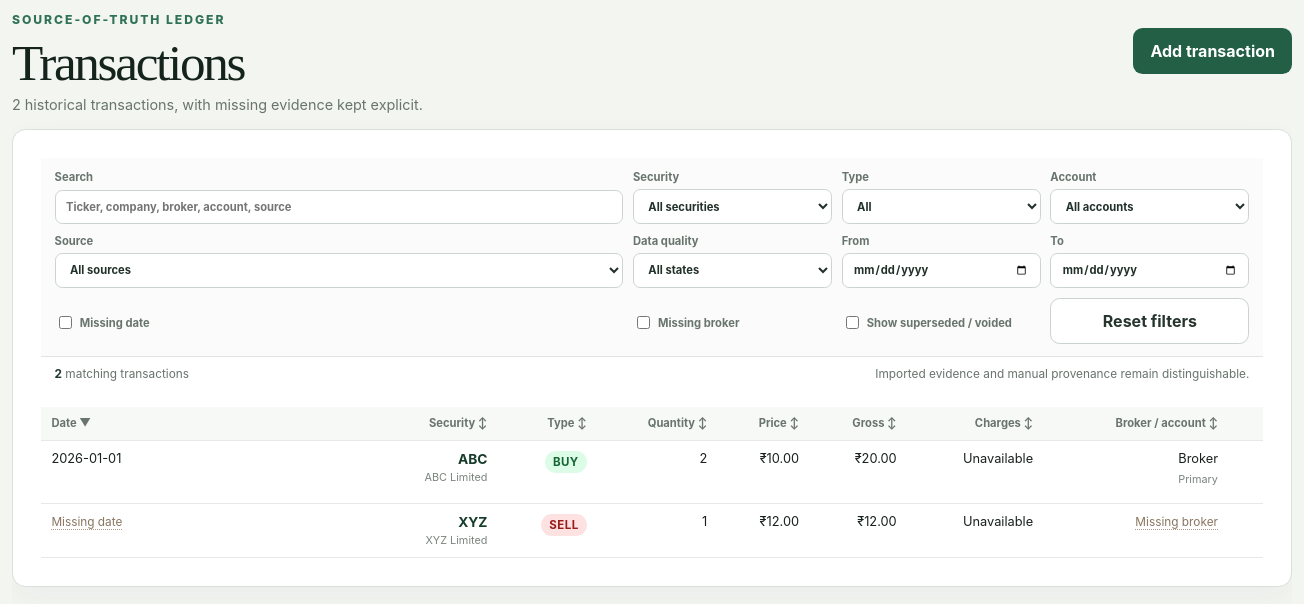
Test: TransactionsPage › sorts columns and resets combined filters
Expected: the text "ABC Limited" is shown, [424,470,488,484]
Click the button "Security ↕" at point(458, 423), box [429,416,488,430]
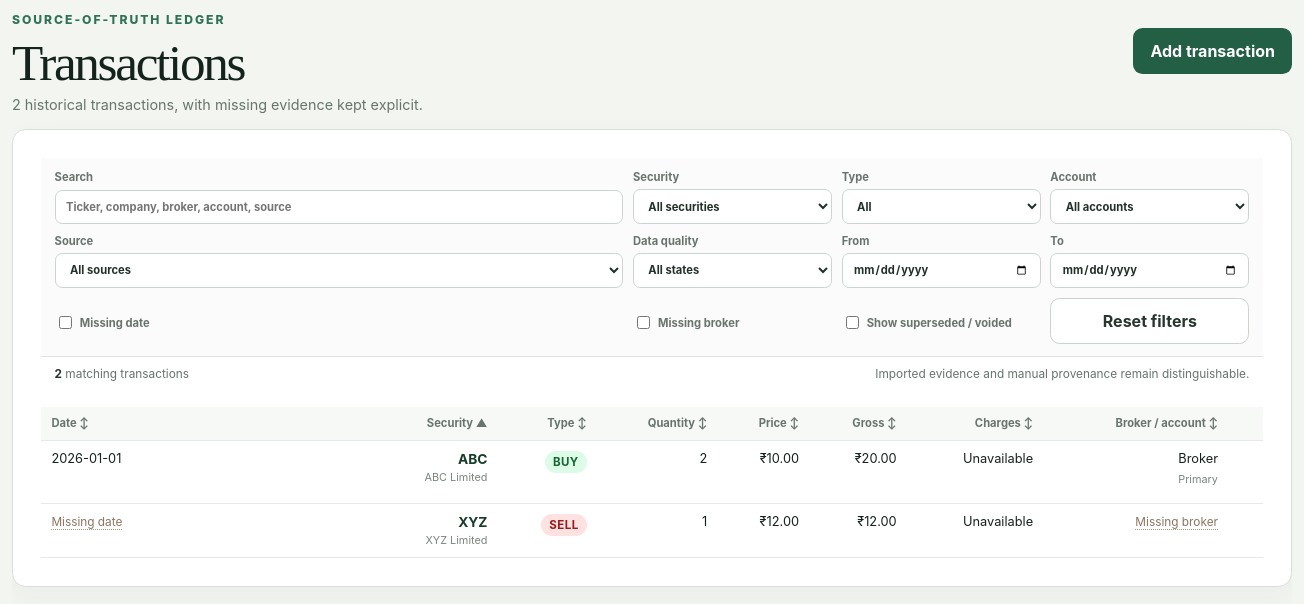
Expected: the row that starts with "ABC" is shown, [458,451,487,467]
Select "SELL" in the dropdown labelled "Type" at point(941, 207), box [842,189,1041,224]
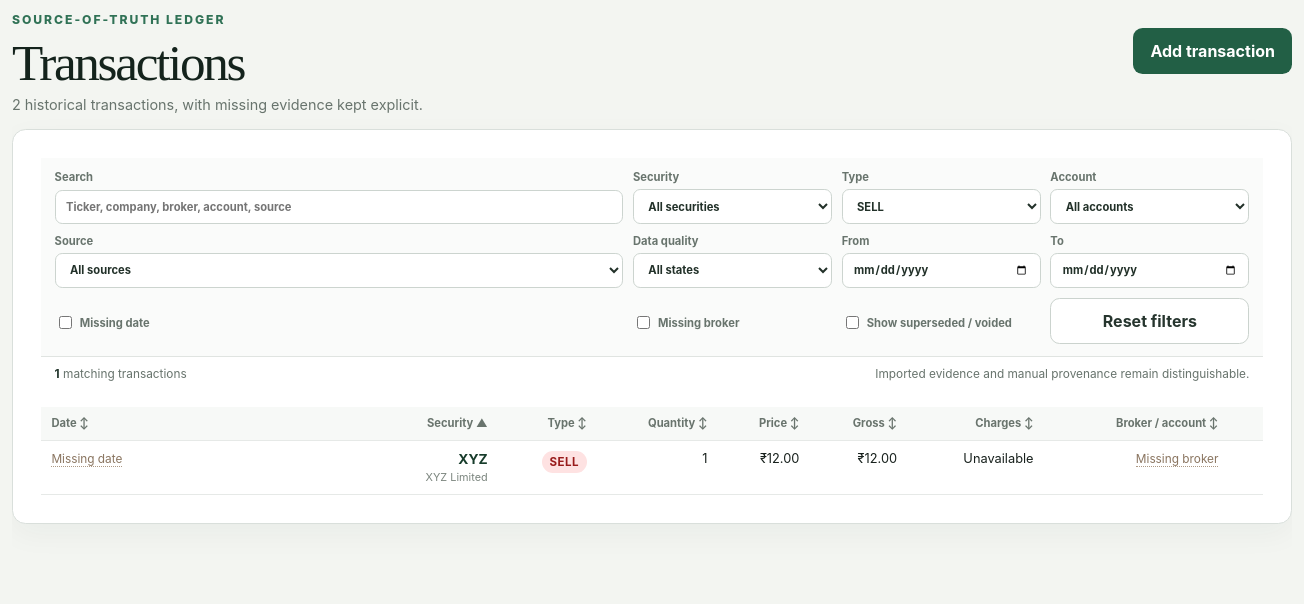
Expected: the text "ABC Limited" is gone
Click the button "Reset filters" at point(1150, 321), box [1050,298,1249,344]
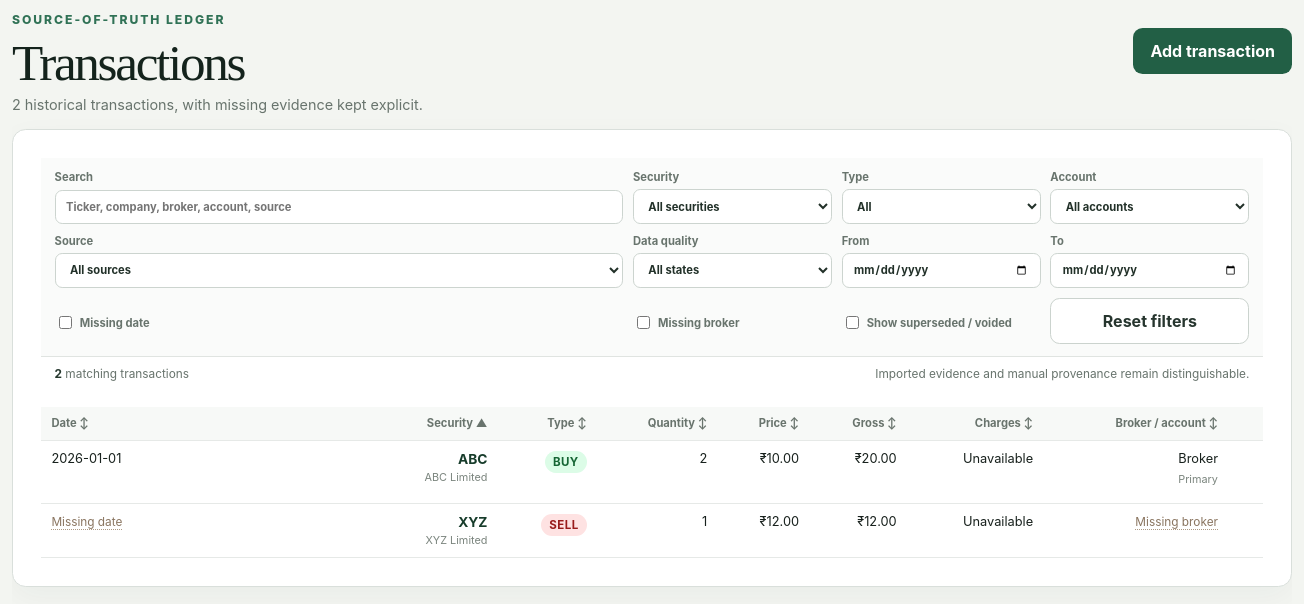
Expected: the text "ABC Limited" is shown, [424,470,488,484]
